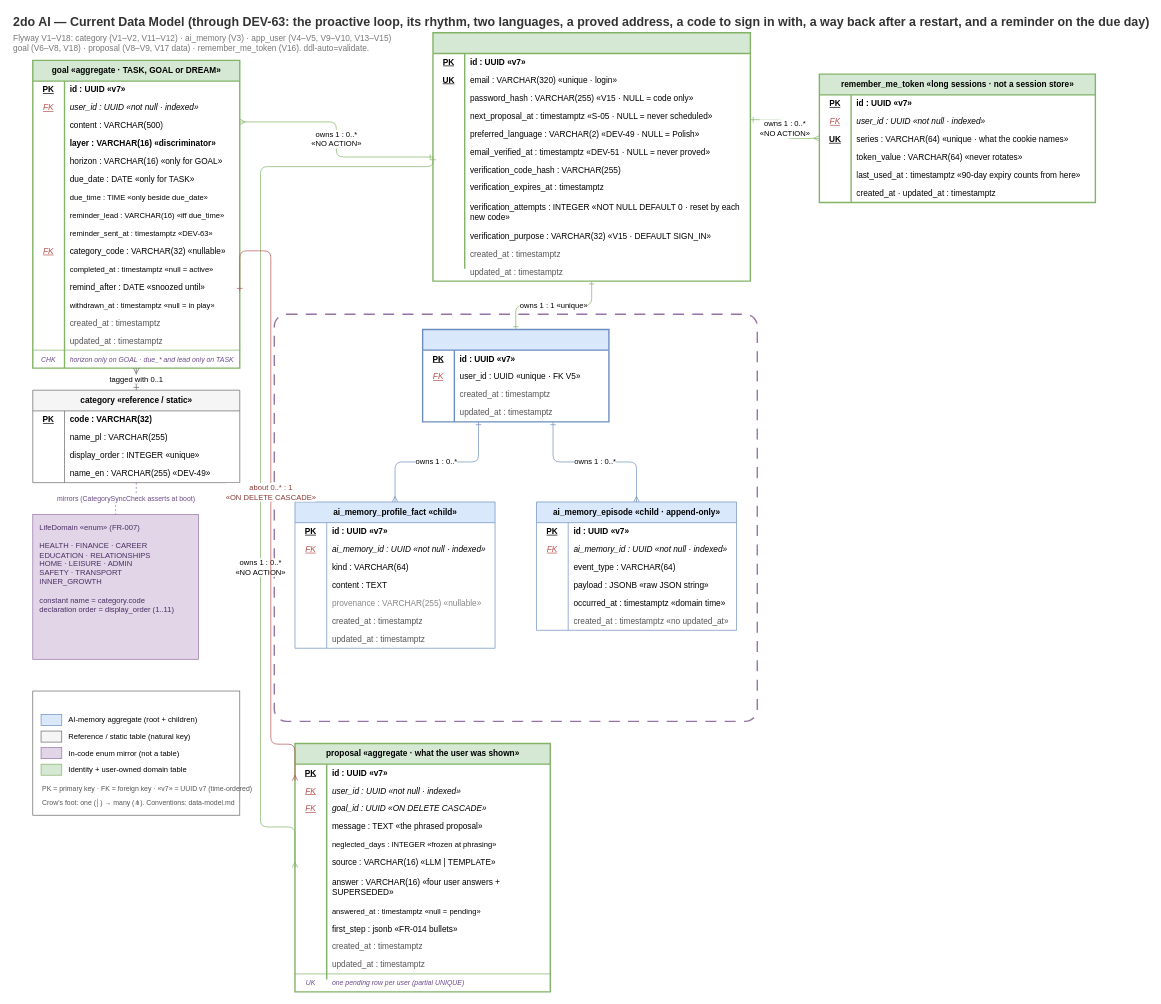
The diagram is 1161 pixels wide and 1004 high, and some of its shapes have lost their labels. Each missing label, with the box of its shape:
AI-Memory aggregate «F-02» — consistency boundary (cascade ALL + orphanRemoval): (273, 313, 758, 722)
ai_memory «aggregate root»: (422, 328, 609, 422)
app_user «identity»: (432, 32, 751, 282)
Legend: (32, 690, 240, 815)
